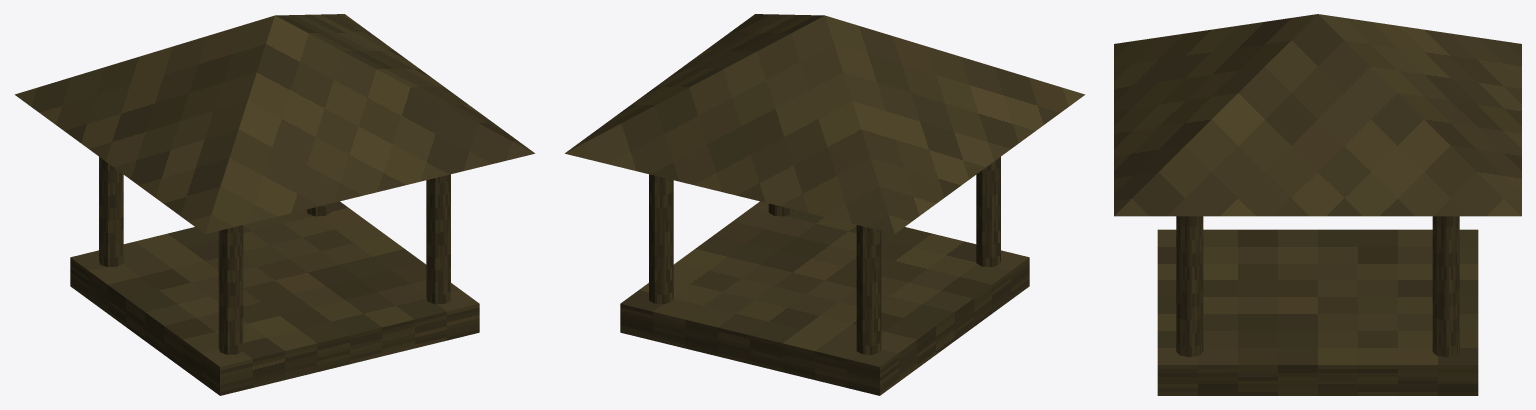
File: pavilion_16.glb
3 views of the same model, side by side, from view 1: azimuth 30°, elevation 25°; view 2: azimuth 150°, elevation 25°; view 3: azimuth 270°, elevation 25° (orthographic). The views are drawn at different scales.
Visible parts, largest first — view 1: Roof, Floor, Column, Column.002, Column.001; view 2: Roof, Floor, Column.001, Column.003, Column; view 3: Roof, Floor, Column.002, Column.003.
Boxes of the visible parts, x1,y1,x2,y2 form: Roof: (14,14,534,234); Floor: (70,201,479,395); Column: (218,225,243,354); Column.002: (426,174,450,304); Column.001: (99,157,123,267); Roof: (565,14,1085,234); Floor: (620,201,1029,395); Column.001: (856,225,881,354); Column.003: (649,174,673,304); Column: (976,157,1000,267); Roof: (1114,14,1521,216); Floor: (1157,229,1478,395); Column.002: (1176,216,1203,357); Column.003: (1432,216,1459,357).
Bounding box in the file's own units: 3.59 × 3.05 × 3.59.
Materials: 1 (1 with a texture image).
